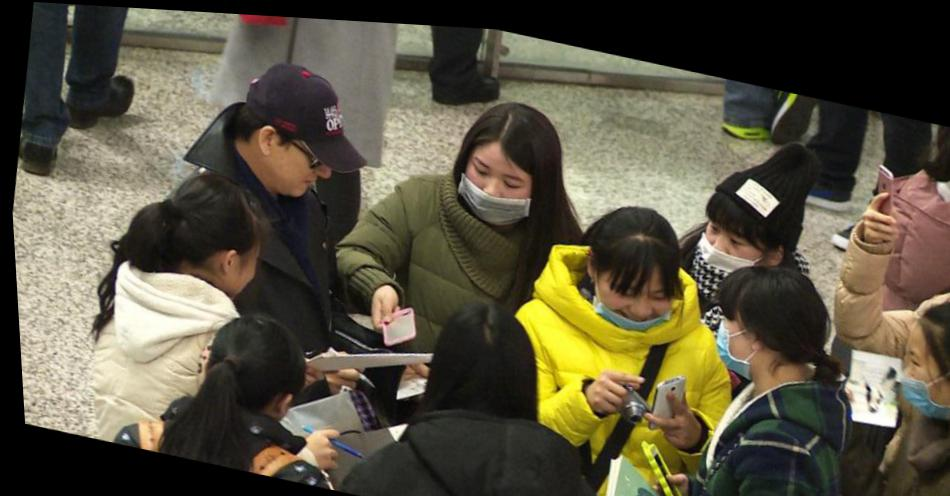NONE: (263, 126, 342, 205)
OK: (707, 308, 771, 380)
WRONG: (454, 142, 535, 224), (589, 253, 670, 335), (695, 203, 768, 276), (891, 332, 950, 417)
